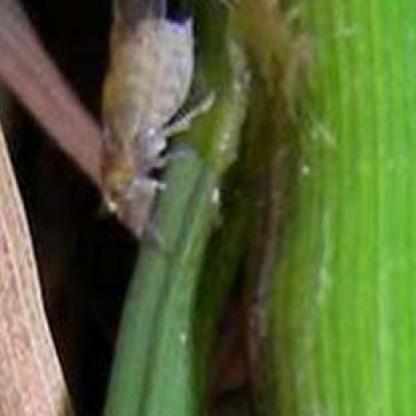brown-planthopper: (95, 1, 196, 230)
